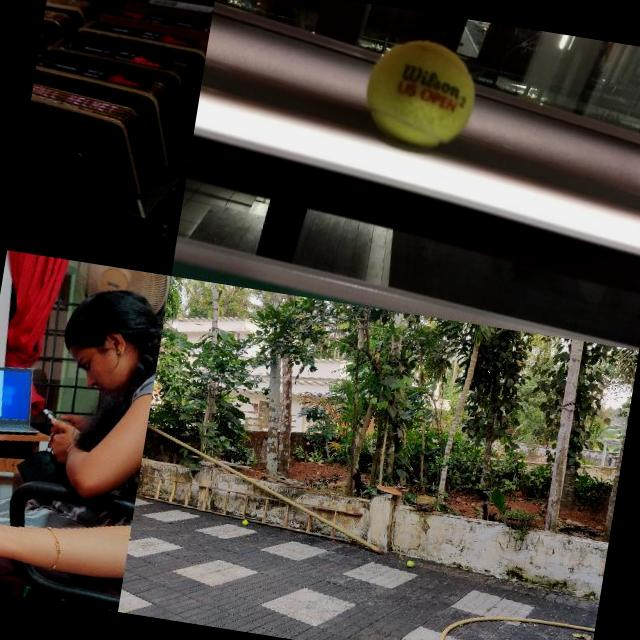Tennis Ball: (358, 32, 483, 155), (406, 560, 414, 568), (241, 519, 248, 526)
